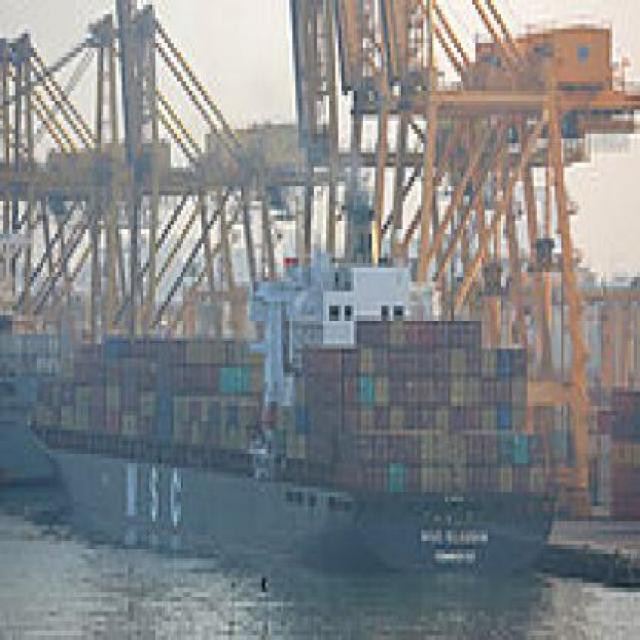container: (22, 216, 574, 608)
